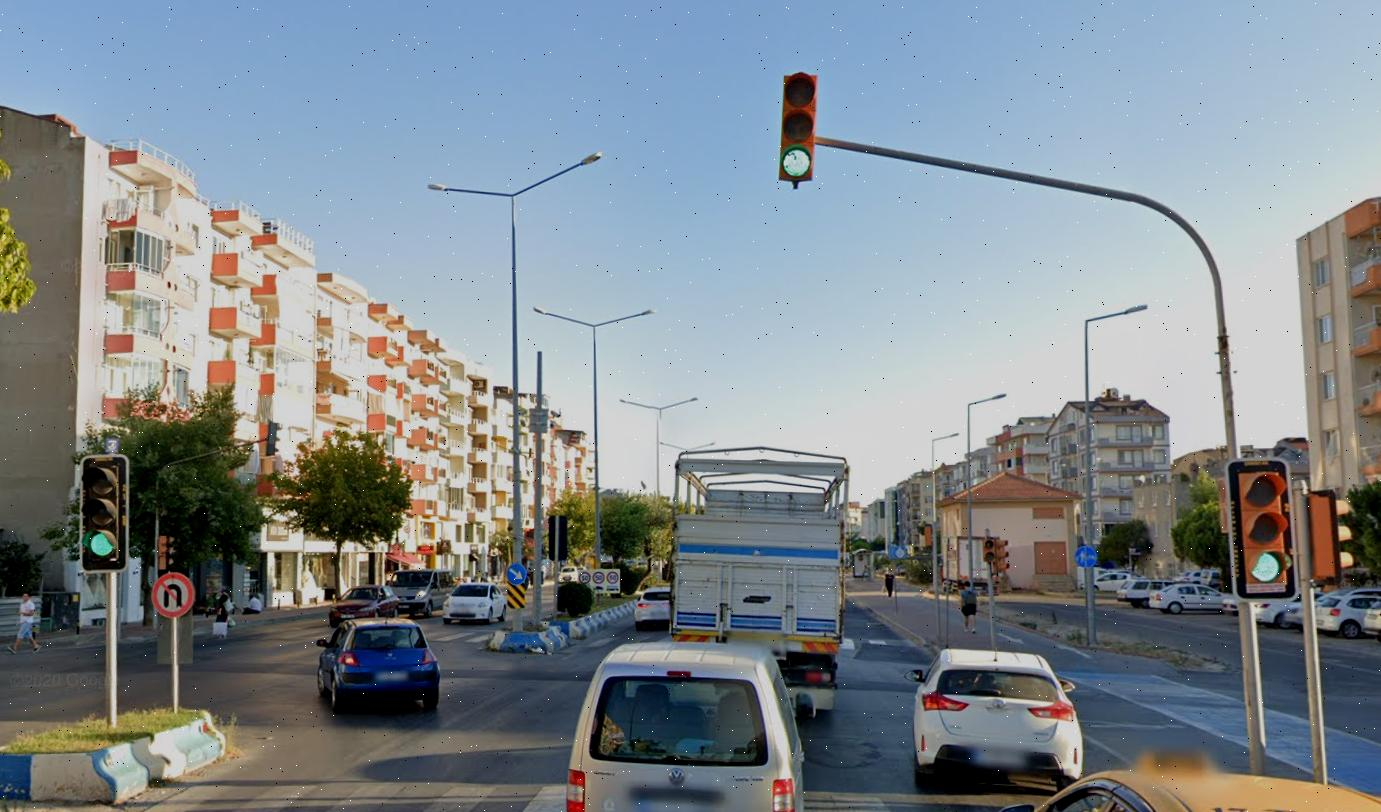greenlight: (1228, 459, 1299, 600), (78, 457, 127, 574), (780, 74, 813, 184)
